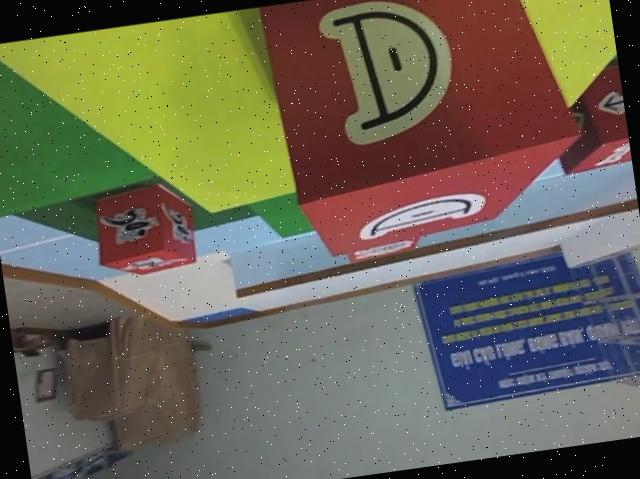R1: (88, 177, 201, 283)
R2 Real: (253, 0, 597, 267), (545, 62, 633, 178)
